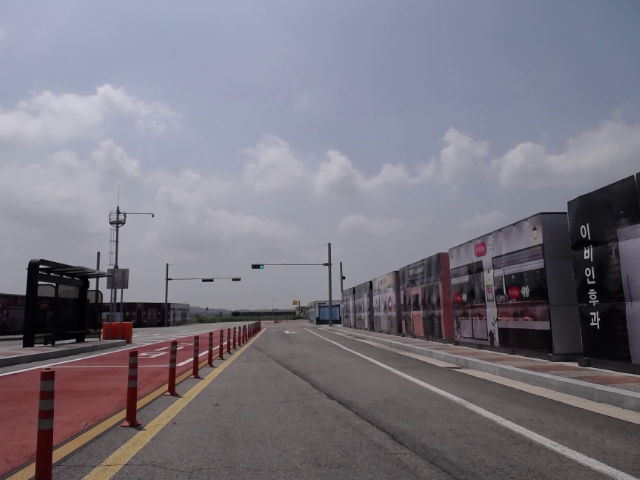green_3: (251, 264, 264, 270)
